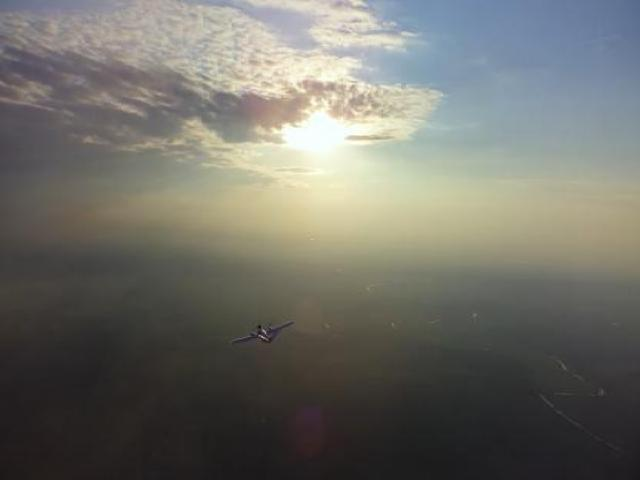uav: (230, 316, 296, 347)
